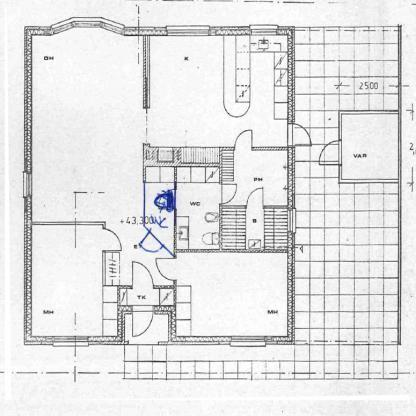bathroom: (176, 165, 222, 250), (144, 183, 176, 260)
door: (130, 302, 157, 338), (130, 258, 157, 289), (317, 139, 345, 168), (285, 122, 313, 150), (135, 228, 165, 252), (152, 257, 178, 284), (101, 225, 124, 254), (218, 182, 240, 206), (245, 185, 267, 209), (232, 128, 255, 149)
perimeter: (28, 30, 292, 340)
window: (161, 21, 216, 40), (49, 330, 92, 351), (20, 166, 40, 204), (227, 332, 272, 348), (283, 207, 298, 238), (247, 21, 282, 34)
